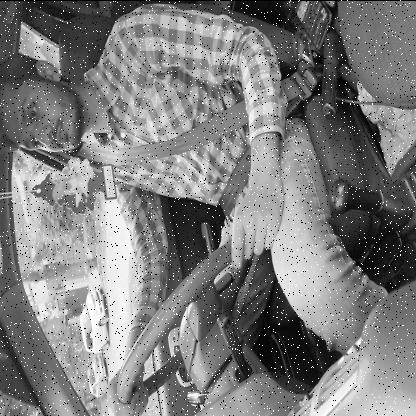seatbelt: (3, 39, 235, 177)
